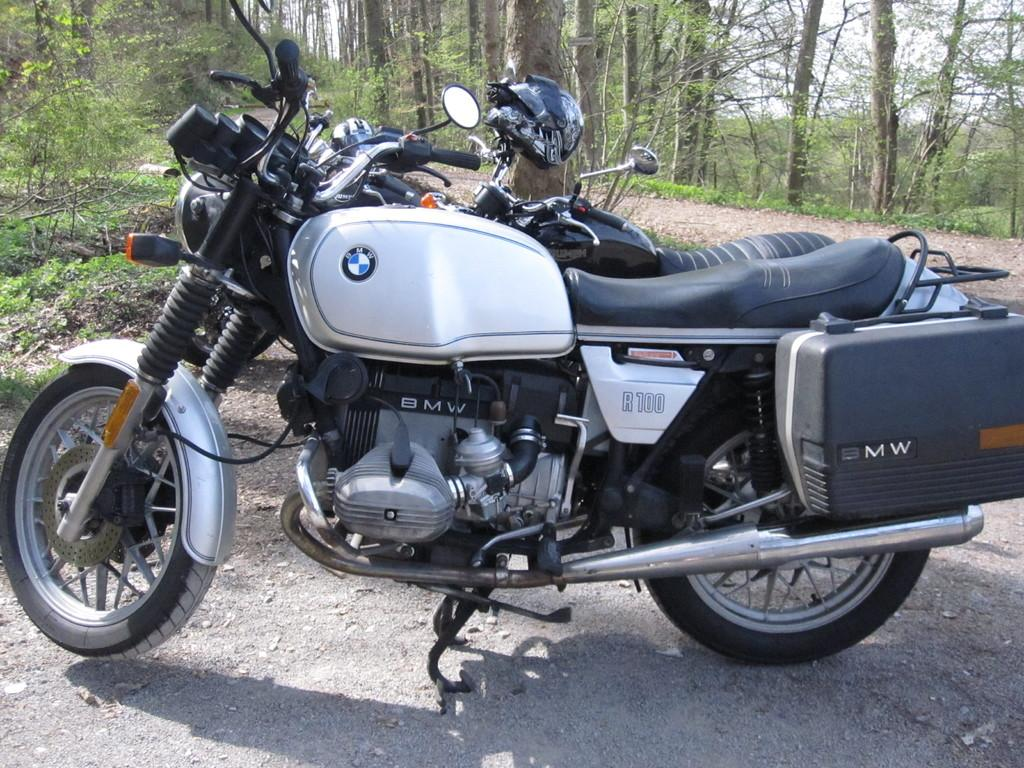helmet: (482, 74, 585, 171)
